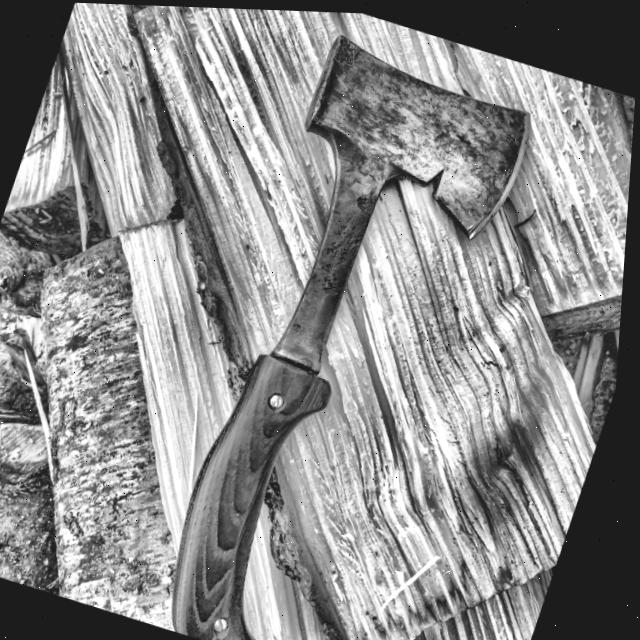kapak: (125, 28, 555, 640)
